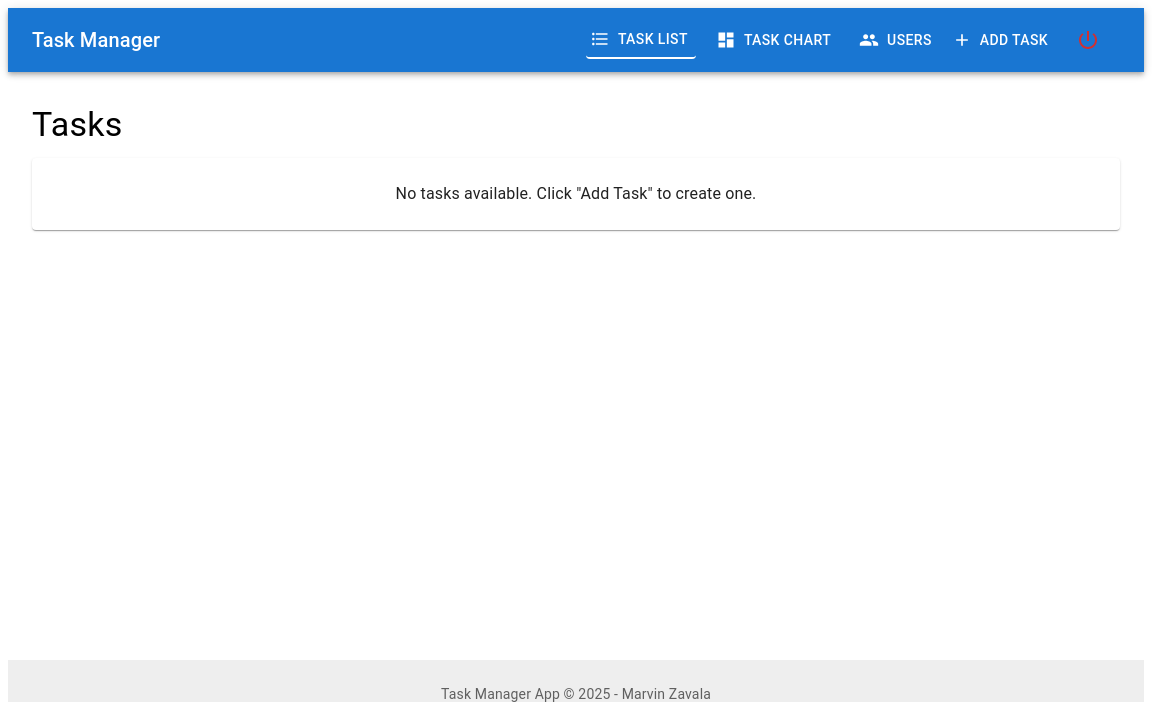
Home Component › should switch between views
Note: Switch to Chart view
Click the button "Task Chart": click(776, 40) [712,21,839,59]
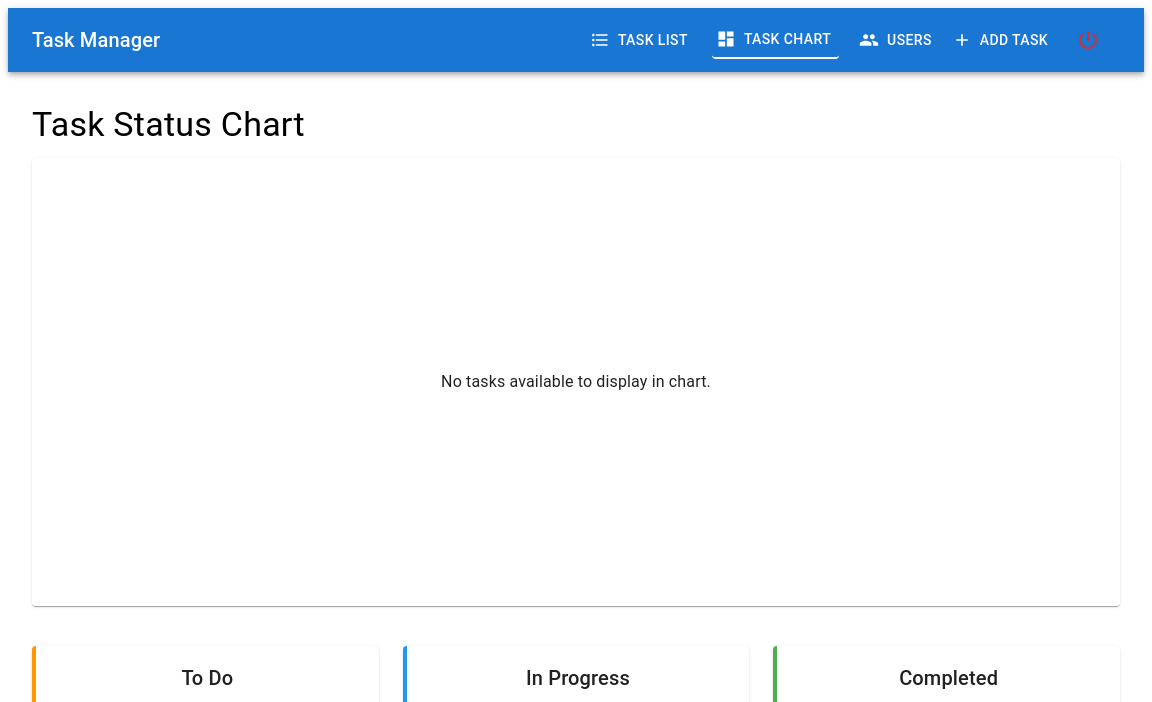
Result: the heading "Task Status Chart" is shown at [32,104,305,144]
Note: Switch to Users view
Click the button "Users": click(897, 40) [855,21,940,59]
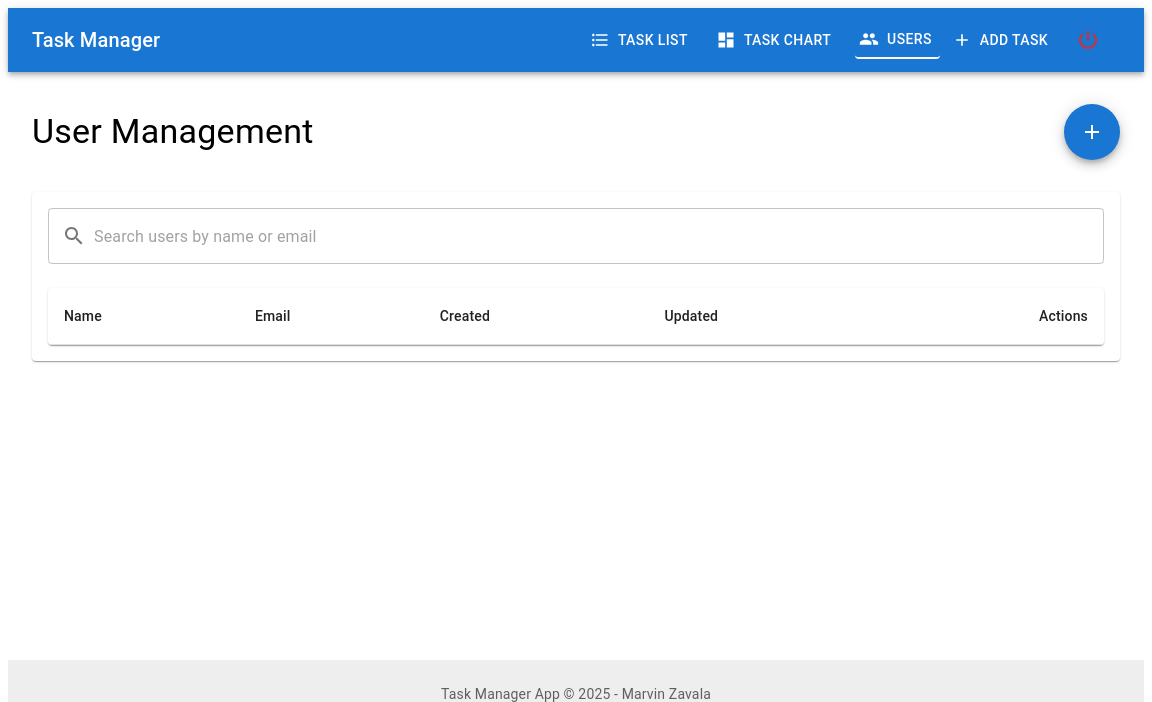
Result: the heading "User Management" is shown at [32,111,314,153]
Note: Switch back to List view
Click the button "Task List": click(641, 40) [586,21,696,59]
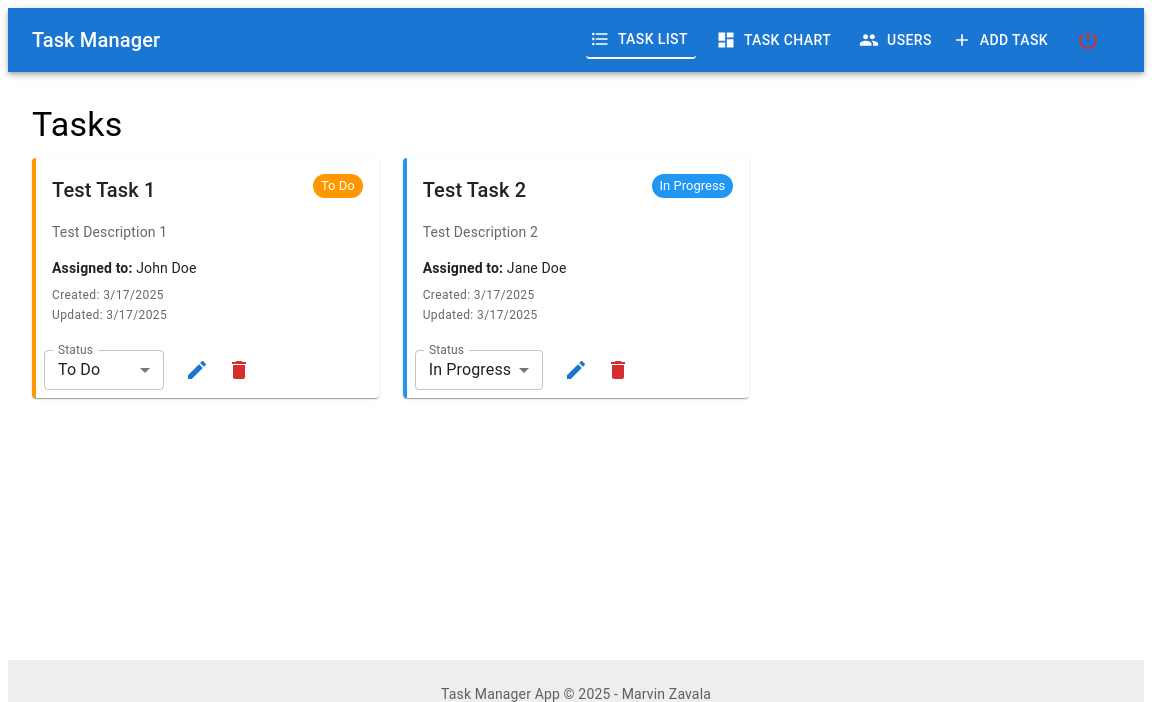
Result: the heading "Tasks" is shown at [32,104,122,144]
